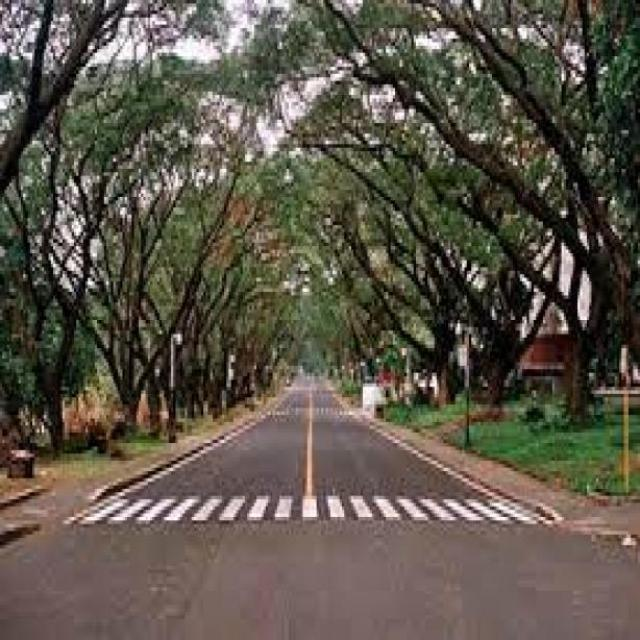pedestrian lane: (79, 494, 534, 523)
